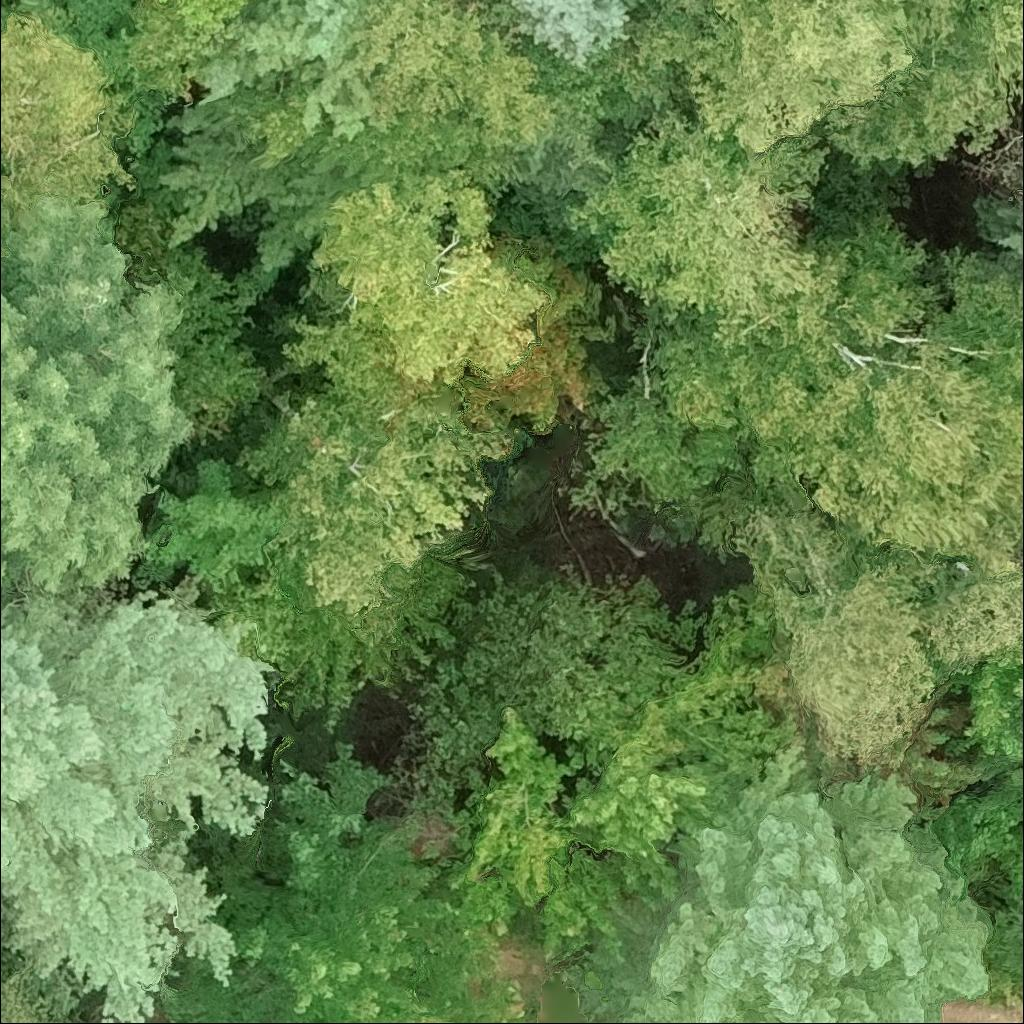crown: (0, 577, 281, 1023), (602, 728, 992, 1023), (160, 739, 532, 1023), (0, 196, 198, 629), (555, 590, 805, 917), (791, 241, 1023, 593), (562, 103, 855, 357), (408, 573, 706, 813), (241, 379, 518, 617), (274, 165, 554, 398), (154, 0, 378, 283), (736, 500, 945, 791), (578, 320, 876, 513), (218, 538, 470, 730), (440, 707, 624, 959), (345, 0, 560, 201), (682, 0, 969, 148), (818, 0, 1023, 167), (463, 231, 615, 435), (0, 8, 138, 228), (131, 452, 284, 605), (542, 0, 706, 133), (823, 209, 941, 356), (500, 0, 651, 74), (922, 565, 1023, 675), (0, 934, 85, 1023), (53, 0, 136, 46), (152, 0, 251, 34), (983, 896, 1023, 977), (975, 751, 1023, 794), (482, 0, 511, 21), (1012, 698, 1023, 743)
